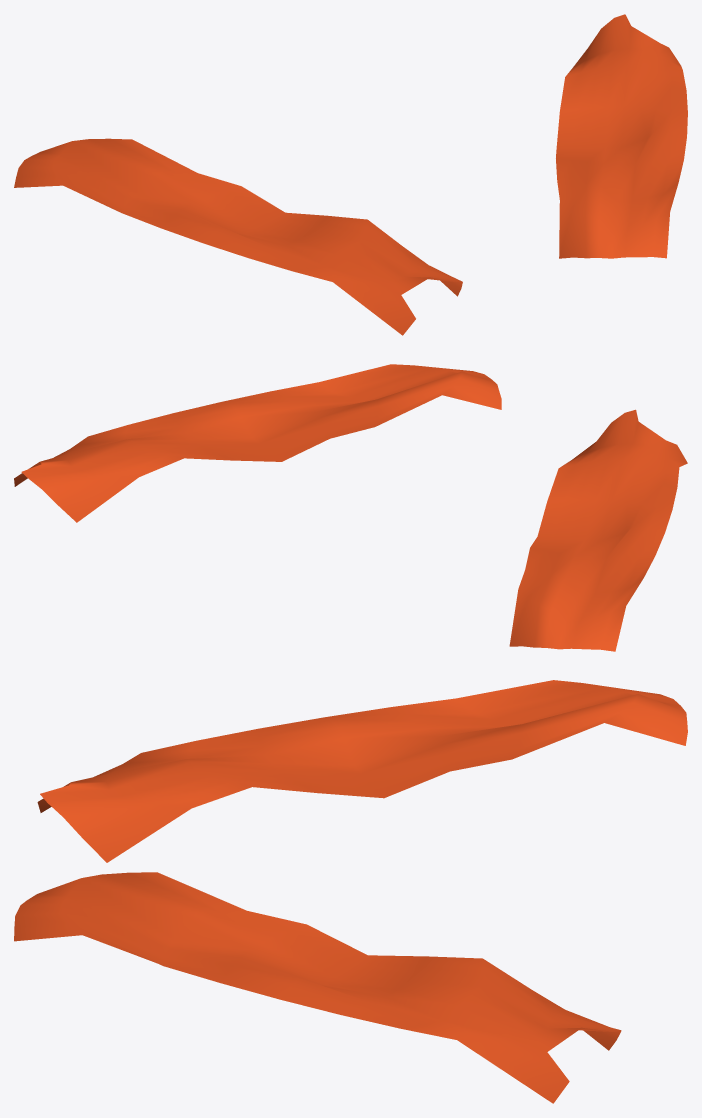
File: Tocino.glb
The picture shows the model from 3 angles, top to bottom: view 1: azimuth 30°, elevation 25°; view 2: azimuth 150°, elevation 25°; view 3: azimuth 270°, elevation 25°; orthographic projection. The views are drawn at different scales.
Parts seen in each view (by area): view 1: Tocino2, Tocino1; view 2: Tocino2, Tocino1; view 3: Tocino1, Tocino2.
Part boxes in pixels (x1,y1,x2,y2): Tocino2: [14, 138, 462, 335]; Tocino1: [556, 14, 687, 258]; Tocino2: [509, 409, 687, 651]; Tocino1: [14, 364, 501, 522]; Tocino1: [14, 872, 621, 1103]; Tocino2: [37, 680, 687, 862].
Bounding box in the file's own units: 2.46 × 0.1945 × 1.76.
